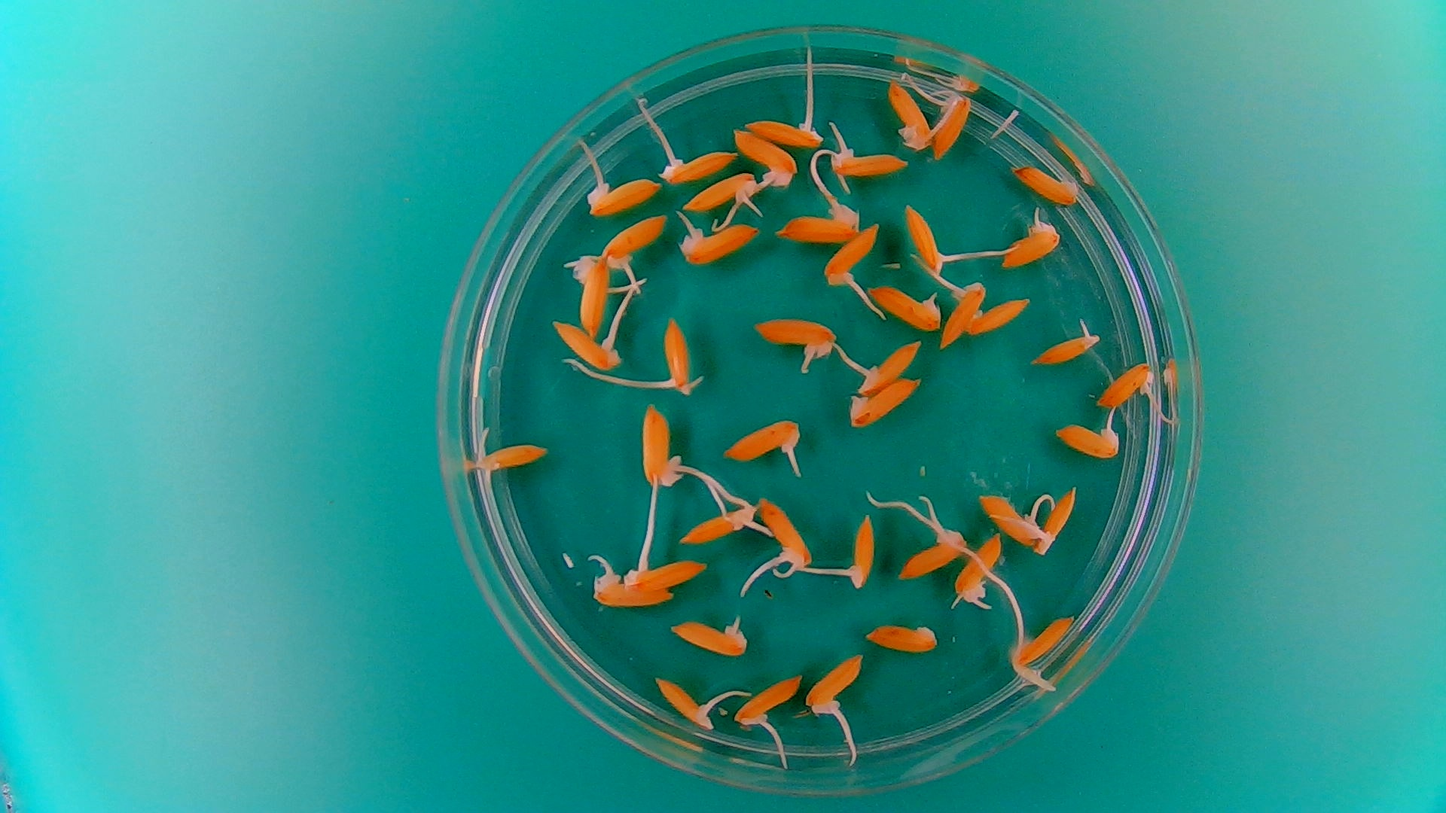no: (846, 375, 923, 430), (1009, 162, 1079, 205), (963, 296, 1031, 340), (863, 620, 940, 654)
yes: (750, 312, 840, 372), (719, 415, 804, 473), (976, 490, 1053, 554), (639, 399, 691, 489), (803, 650, 866, 723), (733, 669, 807, 731), (888, 78, 949, 153), (675, 492, 758, 547), (1009, 612, 1077, 678), (758, 494, 814, 573), (822, 221, 883, 293), (896, 519, 967, 580), (599, 212, 669, 273), (850, 339, 923, 397), (563, 251, 612, 337), (730, 127, 798, 188), (676, 217, 760, 266), (903, 202, 958, 276), (550, 317, 624, 371), (652, 673, 718, 733), (867, 282, 944, 332), (775, 199, 860, 243), (999, 209, 1061, 269), (591, 565, 679, 607), (957, 531, 1005, 607), (584, 173, 663, 218), (1031, 317, 1103, 366), (667, 615, 751, 657), (681, 169, 761, 213), (653, 314, 697, 394), (940, 278, 988, 349), (624, 553, 710, 592), (828, 139, 909, 180), (1094, 359, 1159, 410), (929, 87, 972, 164), (1054, 412, 1124, 459), (743, 107, 825, 147), (836, 512, 877, 590), (656, 146, 737, 184), (476, 440, 551, 477), (1039, 483, 1078, 554)
